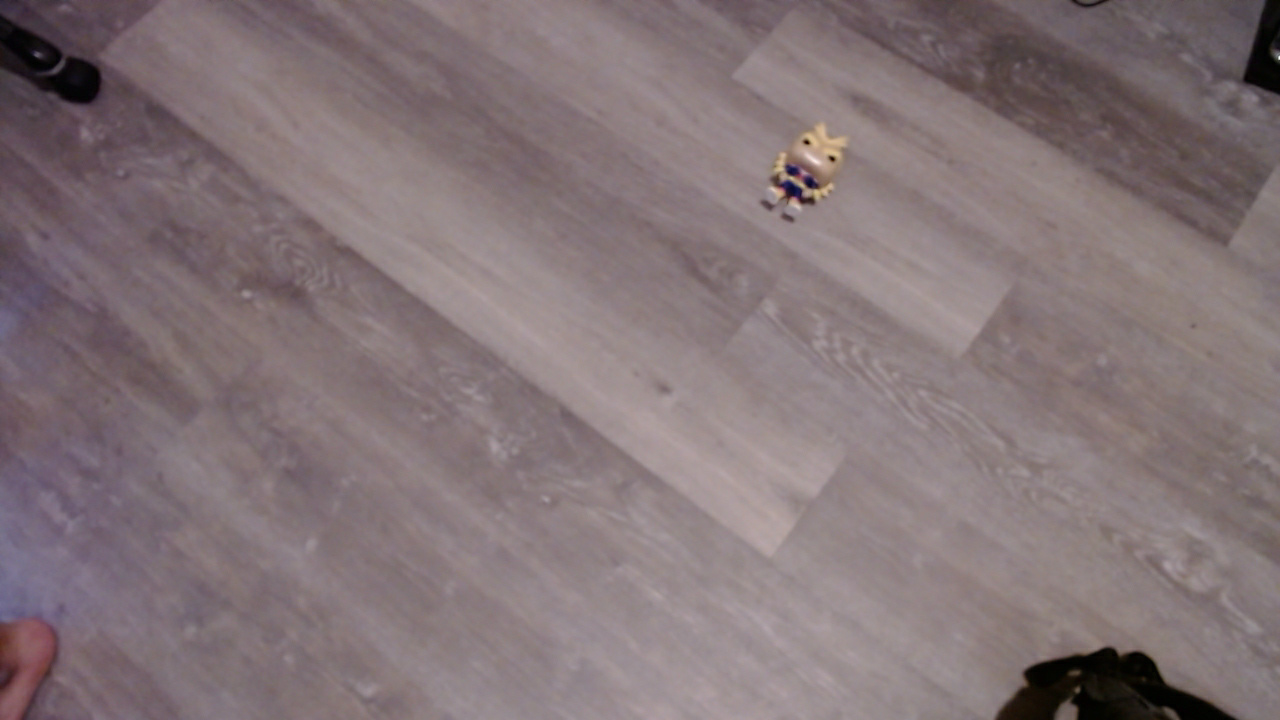all_might: (766, 125, 858, 229)
